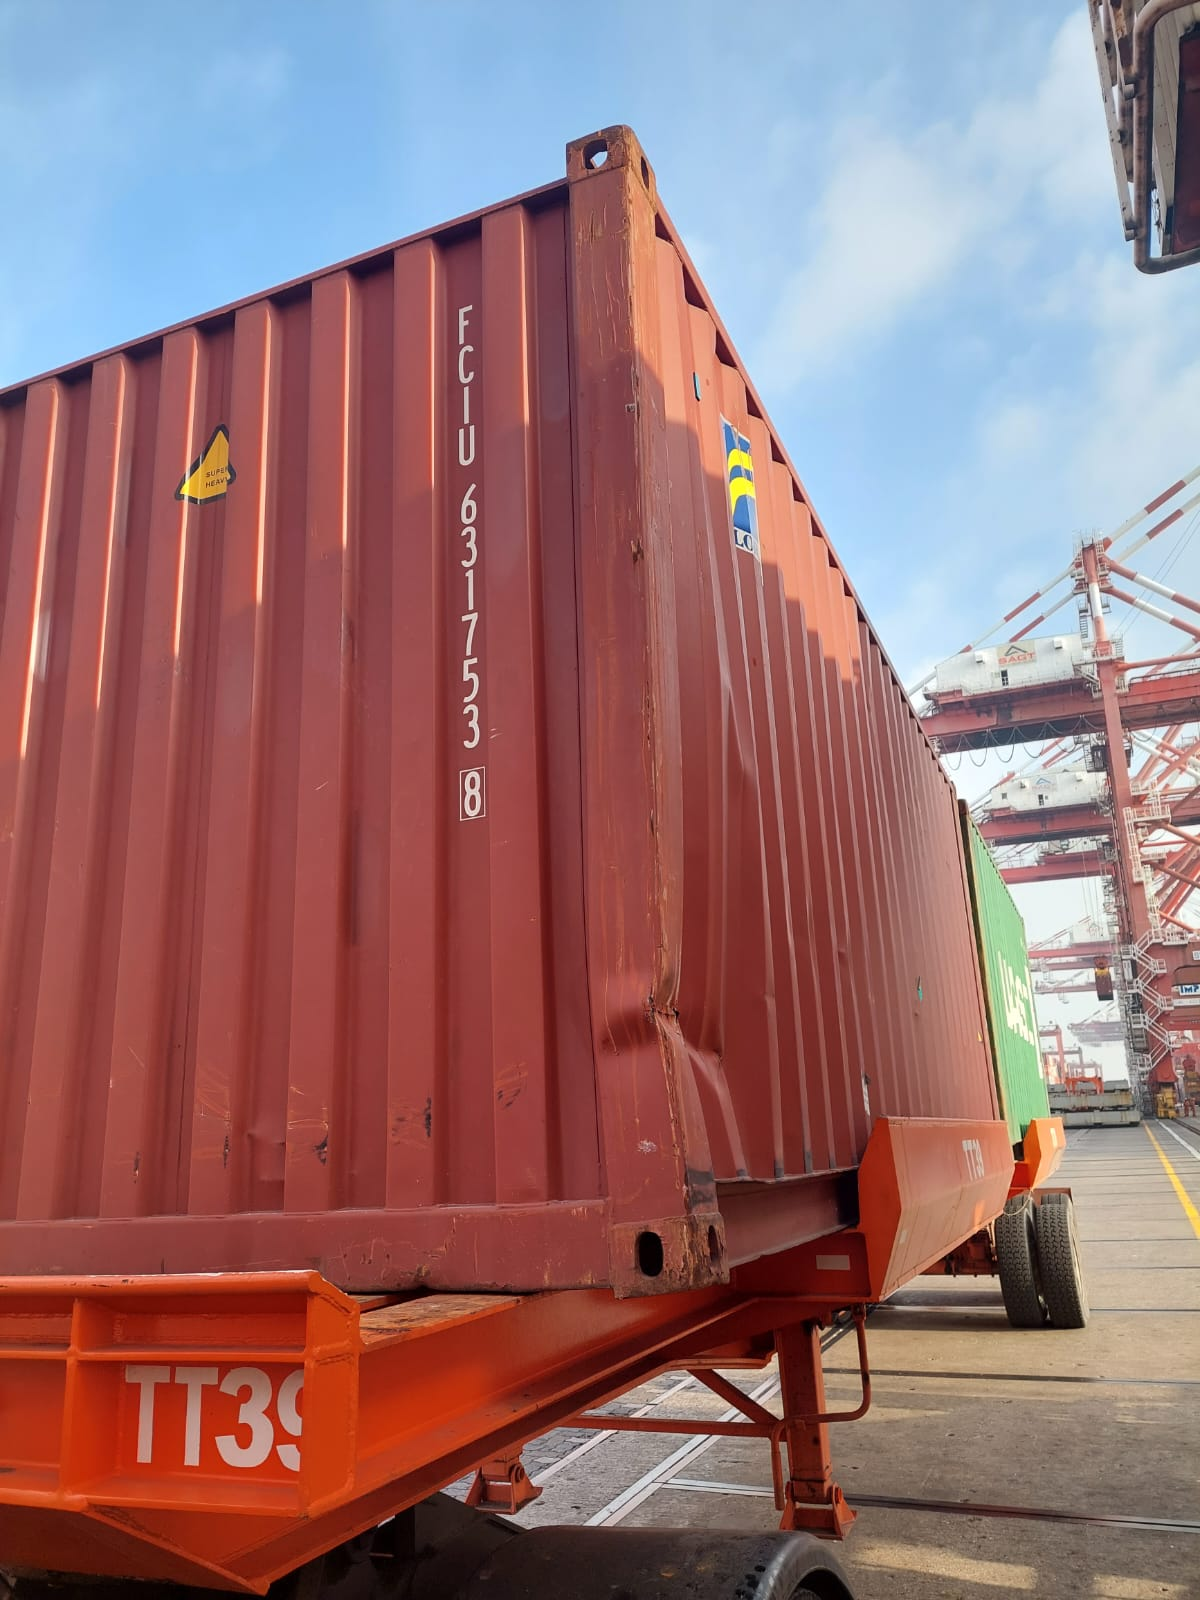dented: (575, 964, 756, 1111)
